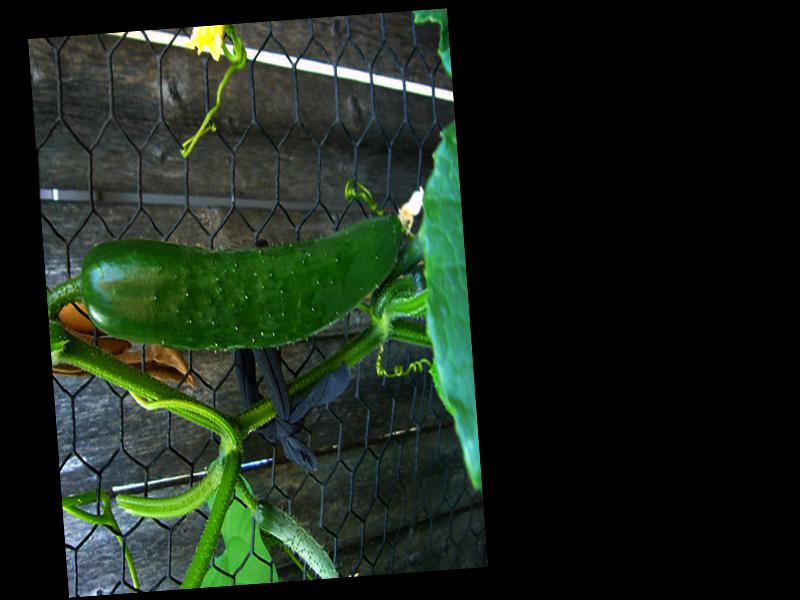Cucumber: (78, 212, 408, 363)
